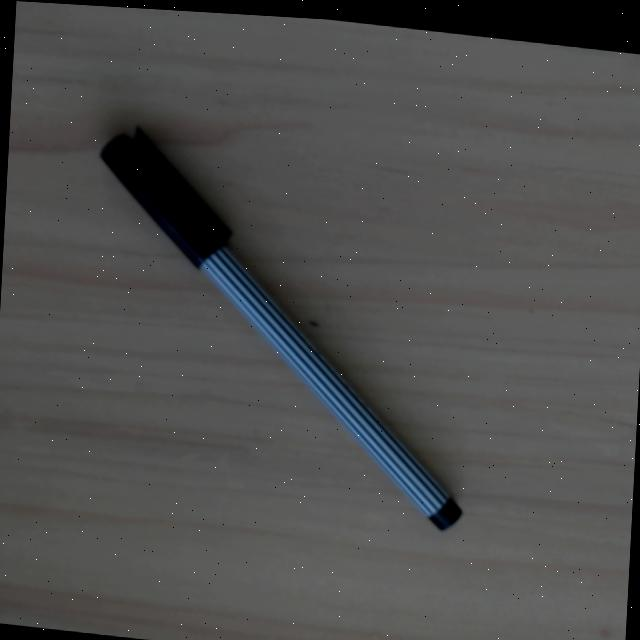Pulpen-Garis-Hitam: (96, 121, 474, 539)
